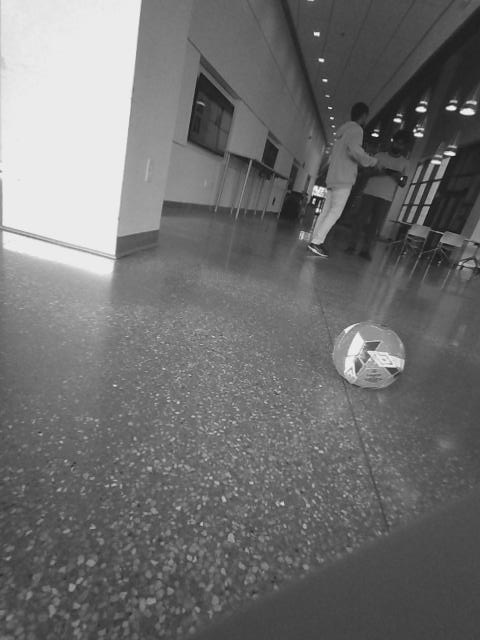ball: (330, 317, 409, 390)
